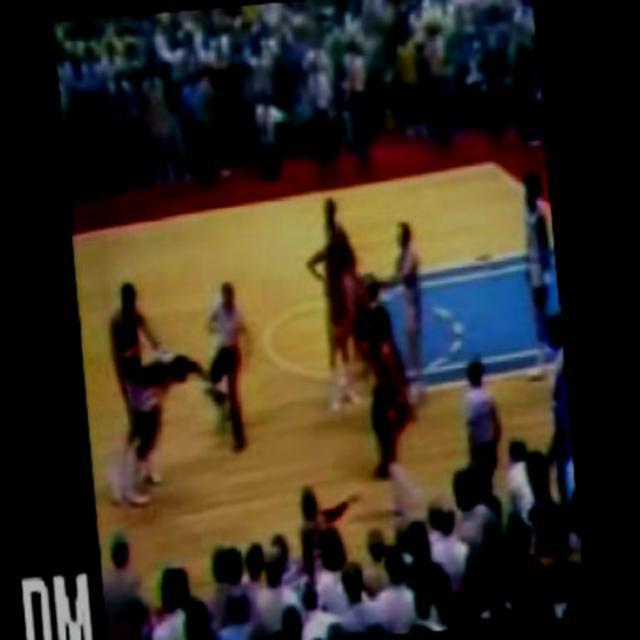fight: (93, 274, 219, 493)
non-fight: (193, 273, 264, 452)
